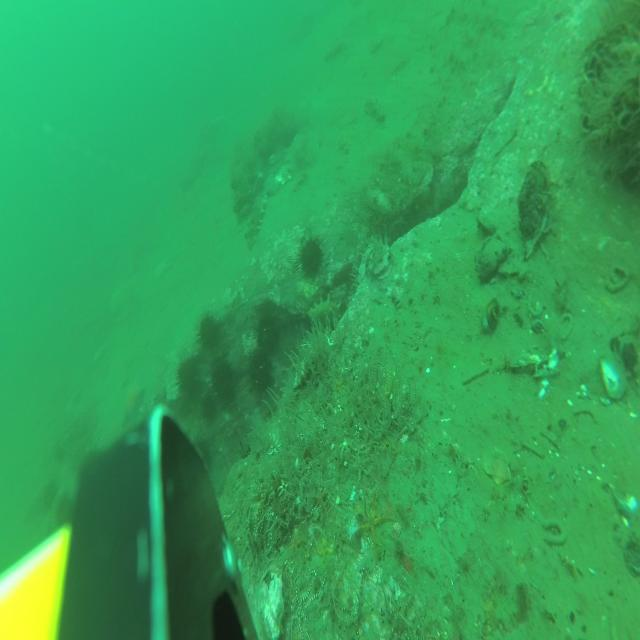echinus: (296, 234, 324, 280), (212, 361, 234, 406), (256, 314, 278, 355), (197, 314, 220, 352), (176, 356, 199, 394), (250, 352, 271, 393), (56, 491, 74, 527), (201, 391, 217, 422)
holothurian: (246, 191, 266, 249), (308, 298, 342, 327), (364, 98, 385, 122), (324, 40, 346, 58), (339, 140, 351, 157)
scallop: (483, 445, 512, 486), (275, 161, 294, 185), (370, 31, 383, 54)
starfish: (358, 493, 394, 551), (314, 528, 336, 566), (290, 532, 306, 556)
